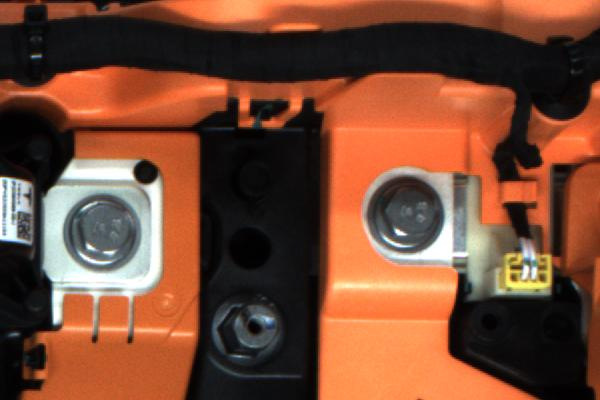nut_b: (364, 167, 450, 256), (60, 192, 143, 272)
